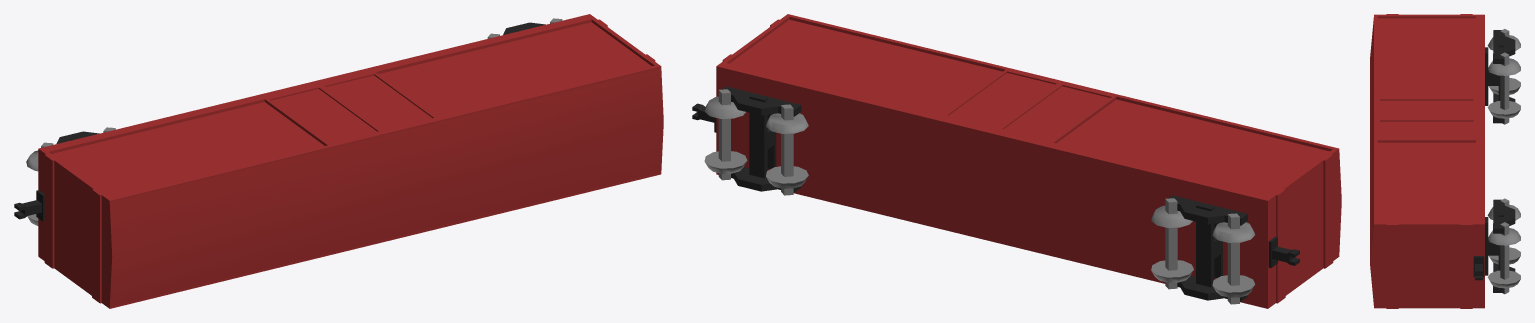
Rendered from box_car_57.3ft.dae.
The picture shows the model from 3 angles, left to right: view 1: azimuth 30°, elevation 25°; view 2: azimuth 150°, elevation 25°; view 3: azimuth 270°, elevation 25°; orthographic projection. The views are drawn at different scales.
Parts seen in each view (by area): view 1: coords_ME_ID190_MA_Box, coords_ME_ID198_MA_Box, coords_ME_ID65_MA_Door, coords_ME_ID73_MA_Door, coords_ME_ID79_MA_Door; view 2: coords_ME_ID190_MA_Box, coords_ME_ID198_MA_Box, coords_ME_ID65_MA_Door, coords_ME_ID73_MA_Door, coords_ME_ID44_MA_Frame, coords_ME_ID143_MA_Frame, coords_ME_ID79_MA_Door, coords_ME_ID52_MA_Frame, coords_ME_ID149_MA_Frame, coords_ME_ID25_MA_Wheels, coords_ME_ID118_MA_Wheels, coords_ME_ID124_MA_Wheels (+11 smaller); view 3: coords_ME_ID198_MA_Box, coords_ME_ID190_MA_Box, coords_ME_ID65_MA_Door, coords_ME_ID73_MA_Door, coords_ME_ID79_MA_Door, coords_ME_ID52_MA_Frame, coords_ME_ID149_MA_Frame, coords_ME_ID44_MA_Frame, coords_ME_ID19_MA_Wheels, coords_ME_ID143_MA_Frame, coords_ME_ID118_MA_Wheels, coords_ME_ID106_MA_Wheels (+11 smaller).
Part boxes in pixels (x1,y1,x2,y2): coords_ME_ID190_MA_Box: (38,14,663,308); coords_ME_ID198_MA_Box: (49,19,654,197); coords_ME_ID65_MA_Door: (324,74,433,129); coords_ME_ID73_MA_Door: (269,87,378,143); coords_ME_ID79_MA_Door: (264,72,437,145); coords_ME_ID190_MA_Box: (716,14,1341,308); coords_ME_ID198_MA_Box: (727,16,1332,195); coords_ME_ID65_MA_Door: (947,71,1056,127); coords_ME_ID73_MA_Door: (1002,85,1111,140); coords_ME_ID44_MA_Frame: (749,94,776,178); coords_ME_ID143_MA_Frame: (1196,203,1222,287); coords_ME_ID79_MA_Door: (943,69,1116,143); coords_ME_ID52_MA_Frame: (721,86,801,116); coords_ME_ID149_MA_Frame: (1168,195,1247,225); coords_ME_ID25_MA_Wheels: (781,104,793,195); coords_ME_ID118_MA_Wheels: (1165,198,1177,289); coords_ME_ID124_MA_Wheels: (1227,213,1239,304); coords_ME_ID198_MA_Box: (1377,16,1475,222); coords_ME_ID190_MA_Box: (1370,14,1484,308); coords_ME_ID65_MA_Door: (1380,120,1473,139); coords_ME_ID73_MA_Door: (1380,99,1473,118); coords_ME_ID79_MA_Door: (1377,98,1475,142); coords_ME_ID52_MA_Frame: (1493,199,1515,233); coords_ME_ID149_MA_Frame: (1493,30,1515,63); coords_ME_ID44_MA_Frame: (1485,209,1503,275); coords_ME_ID19_MA_Wheels: (1500,222,1509,294); coords_ME_ID143_MA_Frame: (1485,40,1503,105); coords_ME_ID118_MA_Wheels: (1500,52,1509,124); coords_ME_ID106_MA_Wheels: (1487,101,1520,118).
Bounding box in the file's own units: 174 × 29.9 × 48.53.
